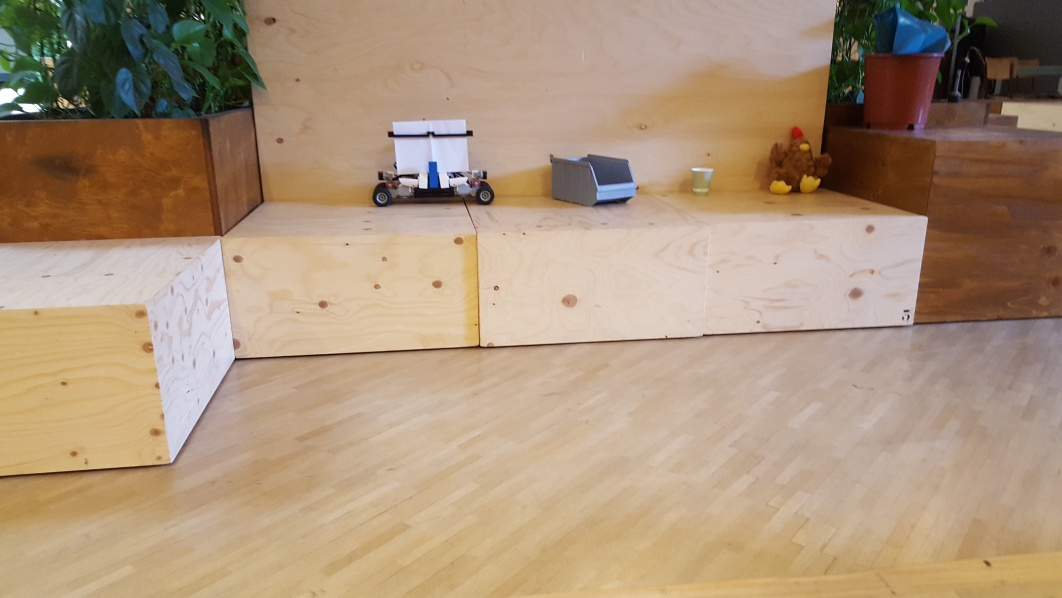car: (372, 121, 494, 210)
chicken: (767, 127, 831, 194)
cup: (688, 165, 713, 196)
tray: (547, 152, 642, 207)
